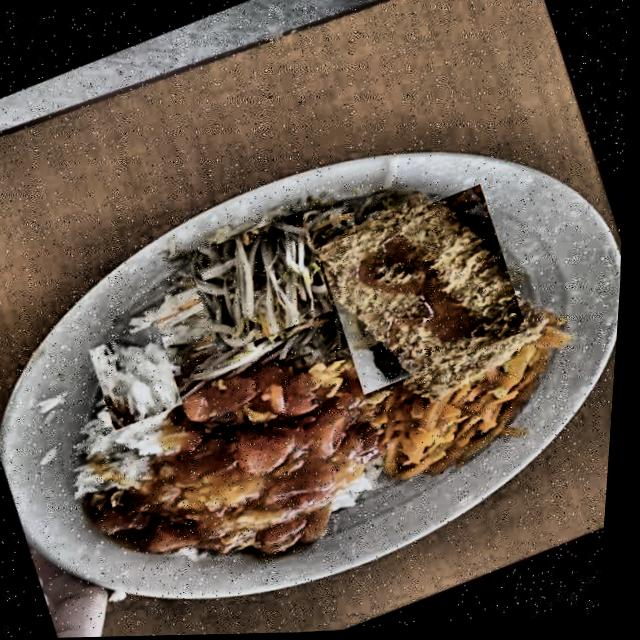Food: (310, 182, 541, 399), (185, 207, 343, 359), (381, 363, 528, 469), (86, 324, 195, 430)
